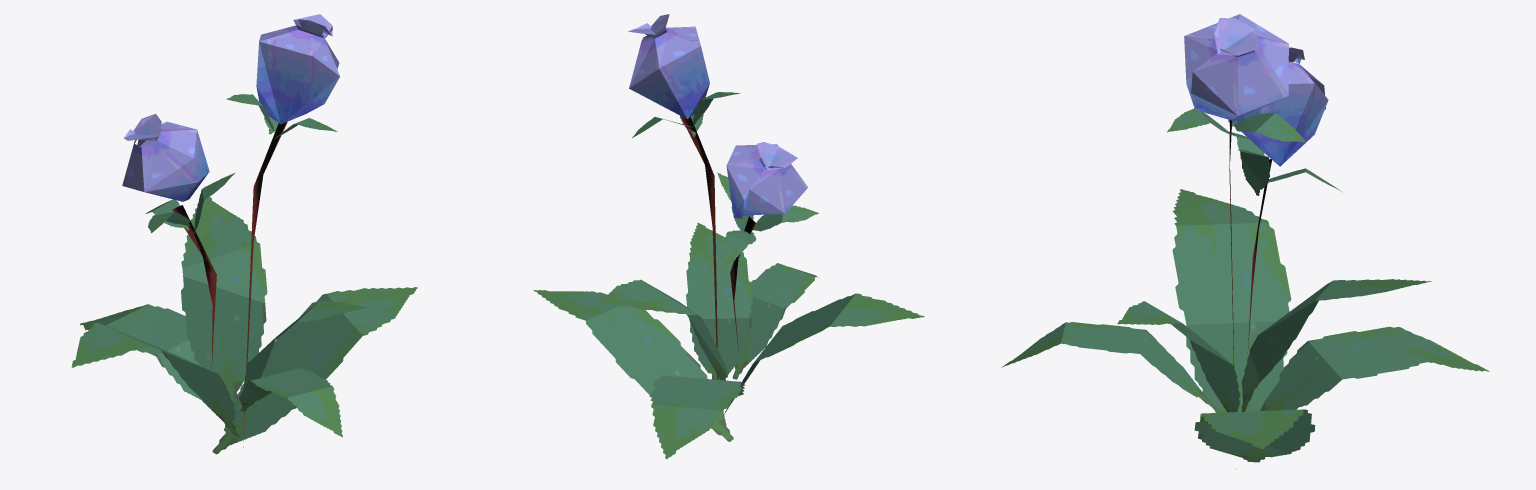
The model's file is gi-RootlessSeed01.glb.
3 renders of one model, left to right at view 1: azimuth 30°, elevation 25°; view 2: azimuth 150°, elevation 25°; view 3: azimuth 270°, elevation 25°, orthographic. The views are drawn at different scales.
Visible parts, largest first — view 1: gi-RootlessSeed01; view 2: gi-RootlessSeed01; view 3: gi-RootlessSeed01.
Boxes of the visible parts, box(x1,y1,x2,y2) form: gi-RootlessSeed01: box(71, 14, 417, 454); gi-RootlessSeed01: box(533, 14, 924, 459); gi-RootlessSeed01: box(1001, 14, 1489, 469).
Size of the model in its own units: 0.4574 by 0.4414 by 0.434.
Materials: 1 (1 with a texture image).
